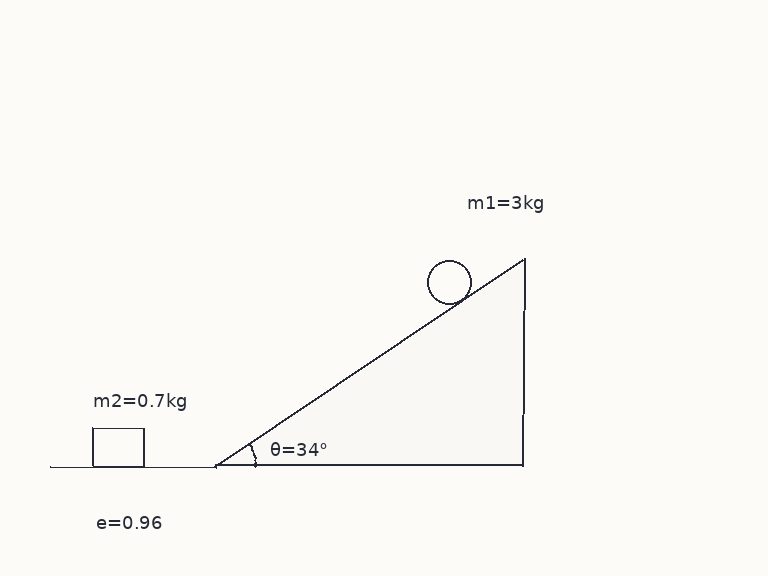ball: (425, 258, 473, 306)
block: (90, 427, 146, 468)
ramp: (214, 257, 526, 468)
